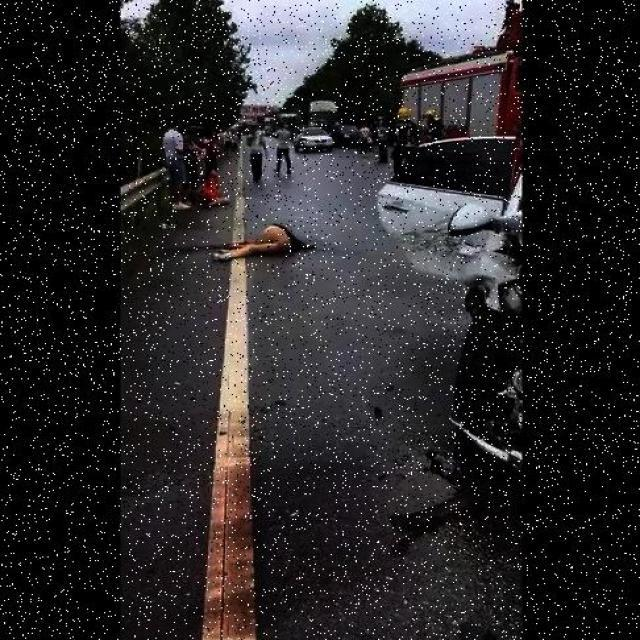fall: (204, 216, 306, 276)
